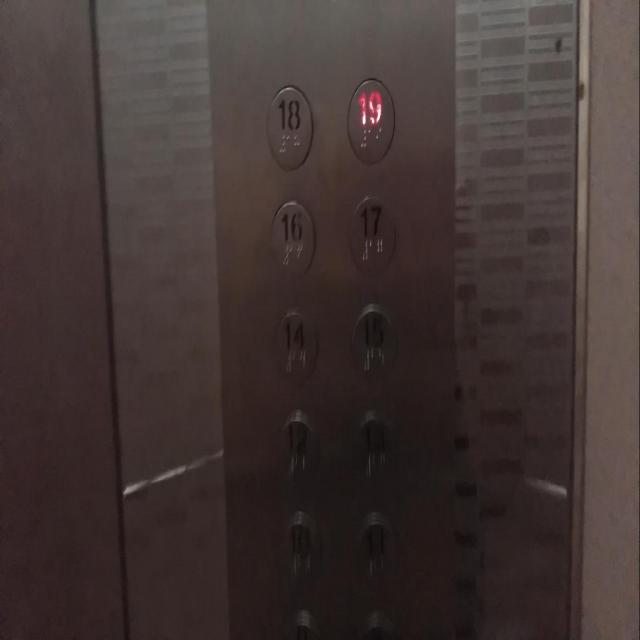12: (274, 410, 320, 493)
14: (272, 307, 318, 391)
15: (348, 304, 394, 388)
16: (268, 195, 316, 283)
17: (348, 192, 396, 279)
18: (265, 81, 315, 172)
19: (345, 75, 396, 167)
blur: (350, 413, 392, 492), (280, 513, 319, 584), (355, 515, 393, 587)
